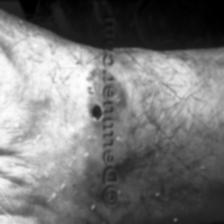Potentially Malignant Skin Tumors: (90, 98, 106, 127)
